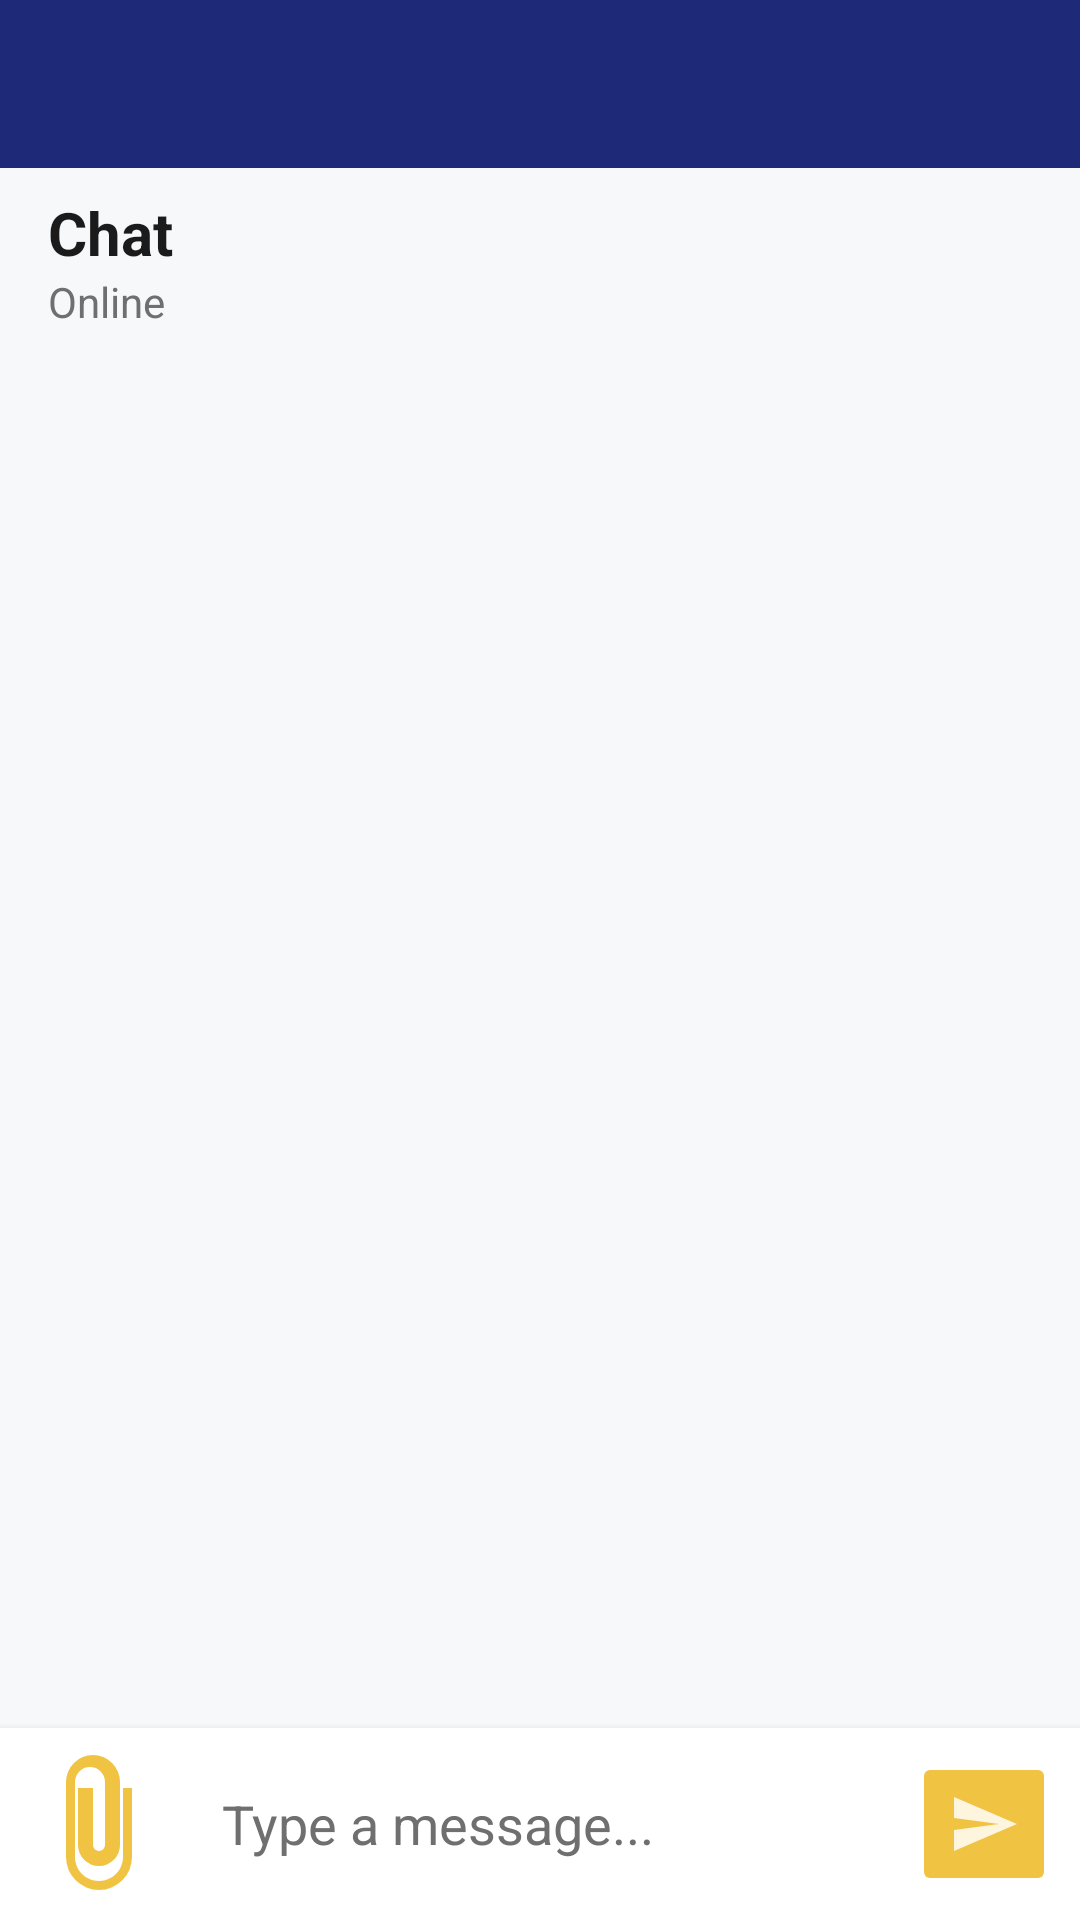

Icon bounding boxes for this 1080*1920 phone screenshot, format (left=x1, top=y1, right=x2, bottom=y2):
Attach image: (left=66, top=1755, right=132, bottom=1890)
Send: (left=924, top=1770, right=1044, bottom=1878)
